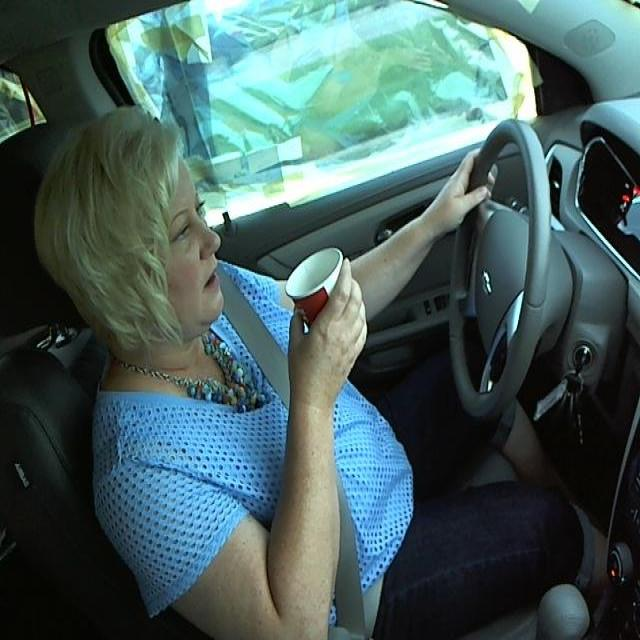Seatbelt: (284, 246, 366, 366)
